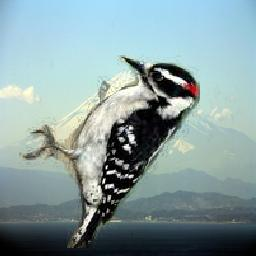Woodpecker: (20, 56, 201, 249)
